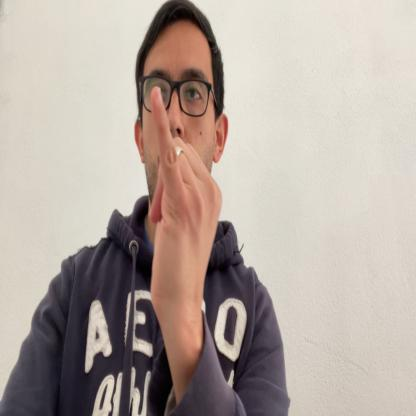I: (146, 84, 222, 331)
